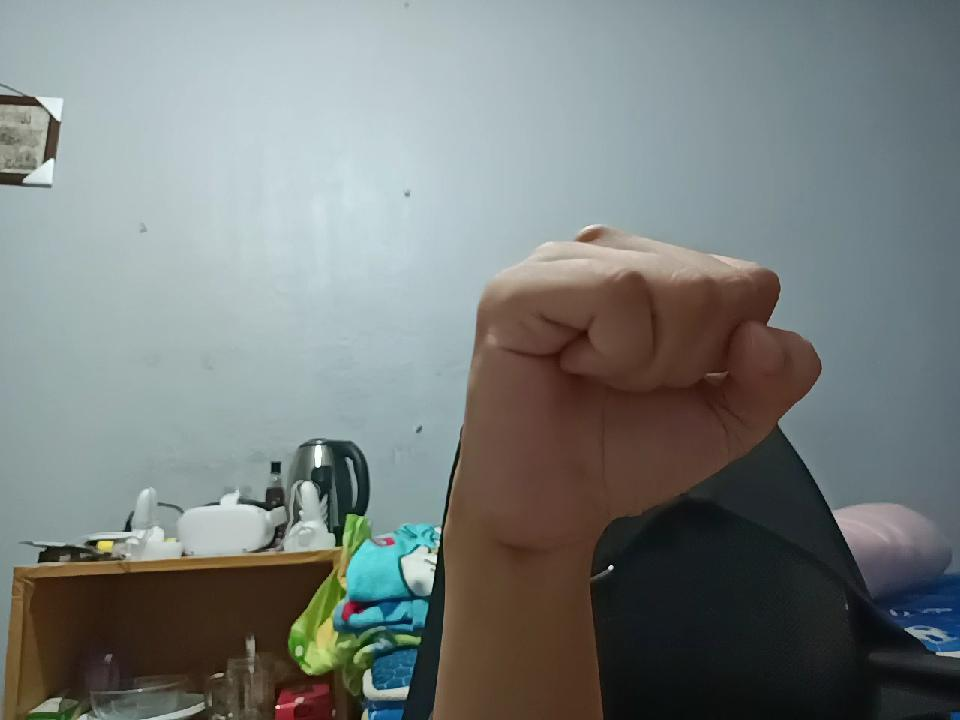rock: (462, 211, 788, 546)
